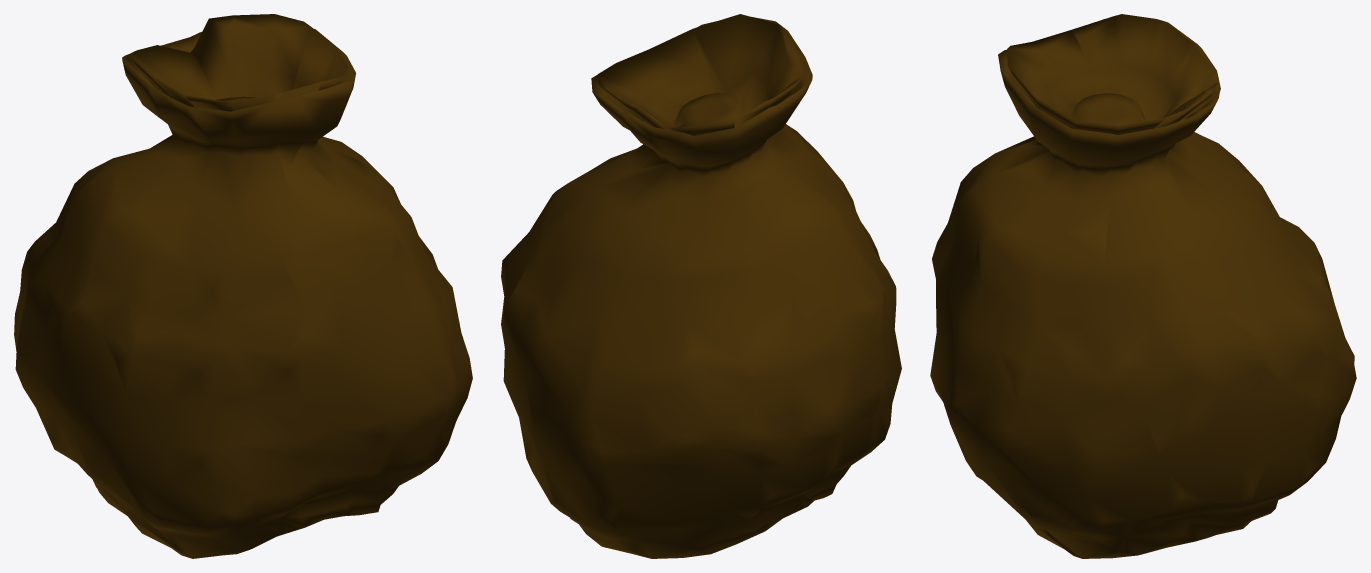
The model's file is trashbag.fbx.
3 renders of one model, left to right at view 1: azimuth 30°, elevation 25°; view 2: azimuth 150°, elevation 25°; view 3: azimuth 270°, elevation 25°, orthographic. The views are drawn at different scales.
Visible parts, largest first — view 1: Sphere001; view 2: Sphere001; view 3: Sphere001.
Part boxes in pixels (<box>): Sphere001: <box>14,14,472,558</box>; Sphere001: <box>501,14,901,558</box>; Sphere001: <box>930,14,1356,558</box>.
Bounding box in the file's own units: 2412 × 2888 × 2448.
